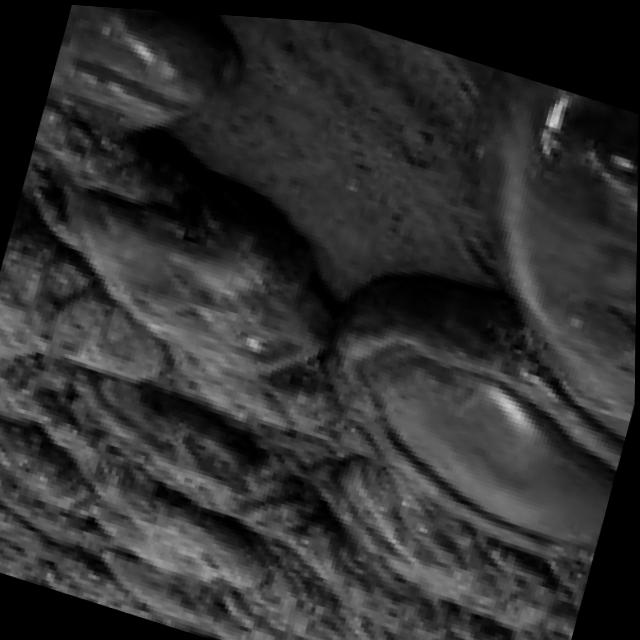Jellyfish: (393, 51, 640, 443)
